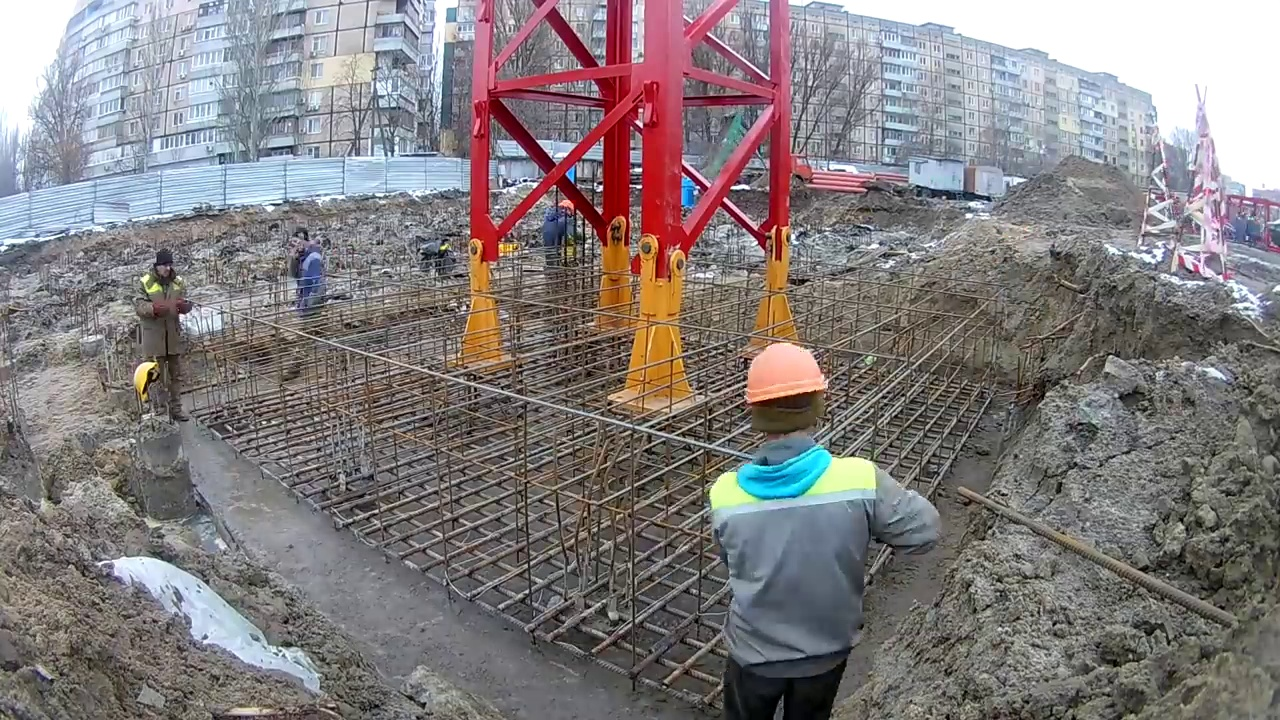helmet: (744, 349, 828, 410), (132, 362, 163, 406), (558, 200, 574, 213)
helmet-off: (293, 229, 320, 264), (154, 248, 175, 282)
helmet-on: (743, 336, 830, 442), (557, 200, 575, 219)
person: (695, 339, 946, 719), (135, 248, 193, 424), (285, 227, 329, 347), (542, 200, 575, 285)
